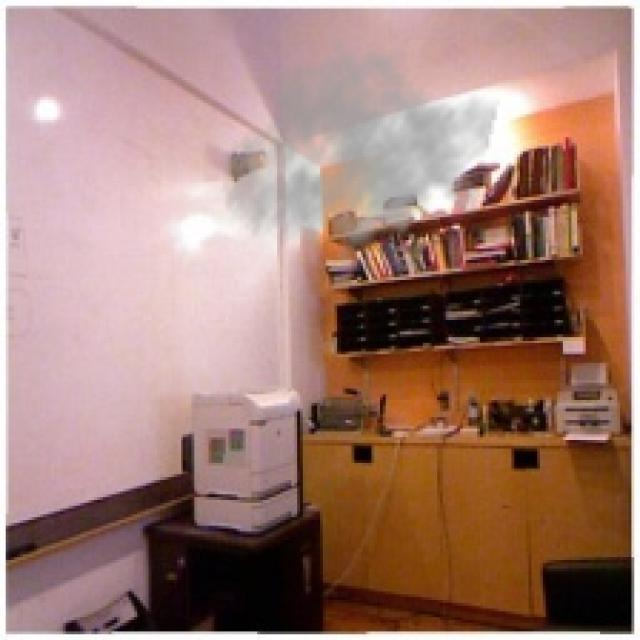Smoke: (220, 37, 500, 274)
